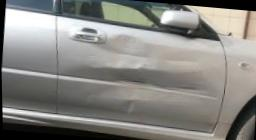Door: (60, 31, 206, 128)
